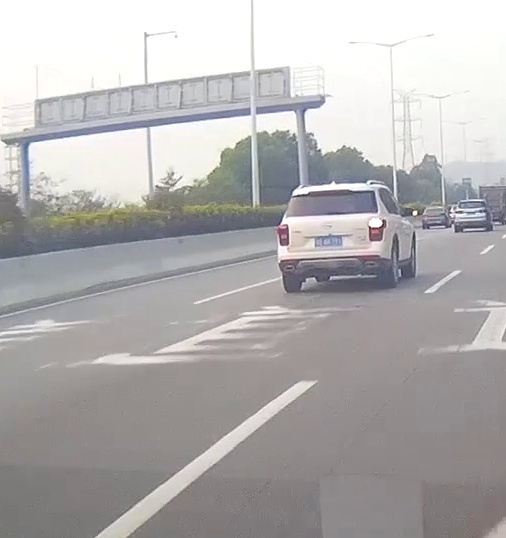L_light: (277, 224, 289, 246), (455, 211, 463, 214)
R_light: (368, 218, 387, 242), (479, 209, 487, 213)
T_light: (309, 189, 350, 193), (468, 201, 474, 203)
day-no: (454, 199, 490, 233)
day-right: (277, 183, 390, 294)
